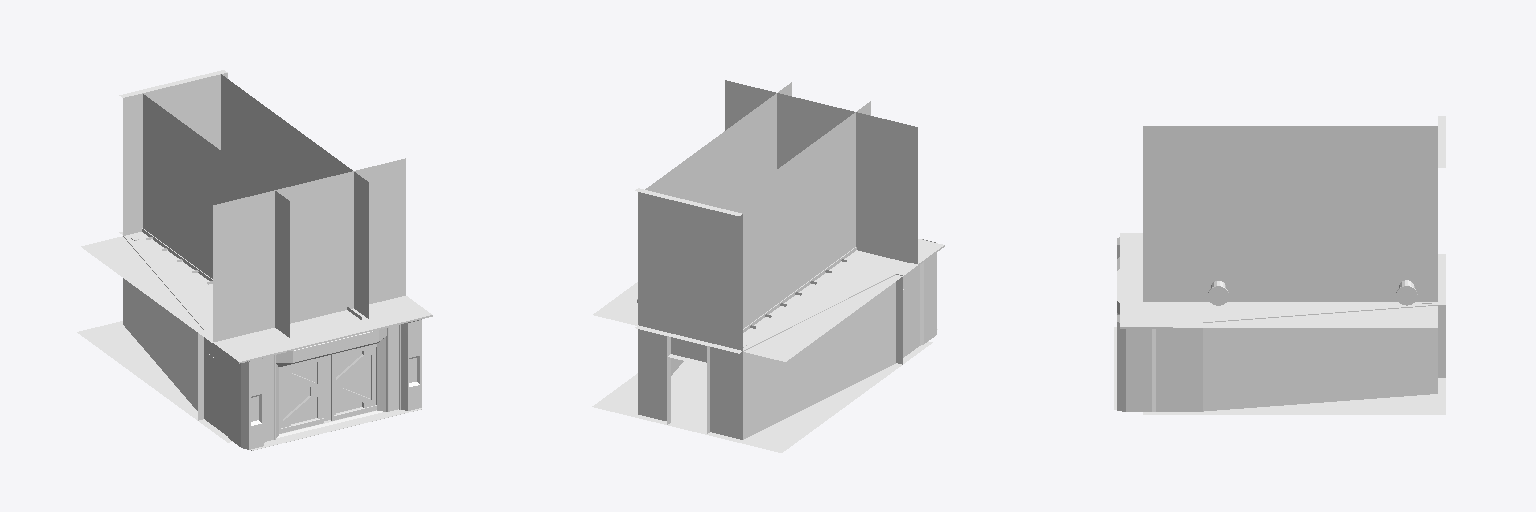
File: HC_room1_endroom.obj
The picture shows the model from 3 angles: view 1: azimuth 30°, elevation 25°; view 2: azimuth 150°, elevation 25°; view 3: azimuth 270°, elevation 25°; orthographic projection.
Parts seen in each view (by area): view 1: endroom2; view 2: endroom2; view 3: endroom2.
Boxes of the visible parts, <box> form: endroom2: <box>77,70,432,450</box>; endroom2: <box>592,80,944,452</box>; endroom2: <box>1114,116,1445,414</box>.
Size of the model in its own units: 9.44 by 10.57 by 14.